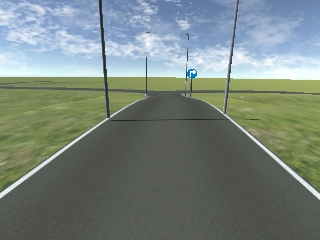right: (186, 68, 198, 78)
